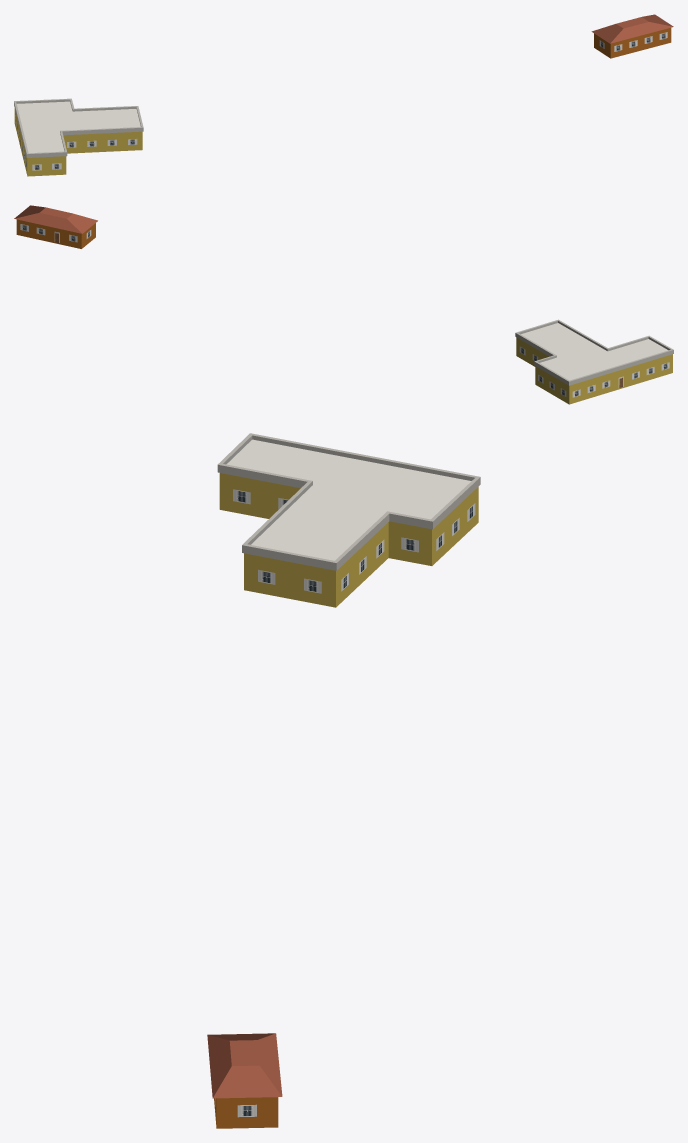
File: msb_noord_m13_m11.glb
The picture shows the model from 3 angles, top to bottom: view 1: azimuth 30°, elevation 25°; view 2: azimuth 150°, elevation 25°; view 3: azimuth 270°, elevation 25°; orthographic projection. The views are drawn at different scales.
Parts seen in each view (by area): view 1: msb_noord_m13_m11_lod0; view 2: msb_noord_m13_m11_lod0; view 3: msb_noord_m13_m11_lod0.
Boxes of the visible parts, left/top/right/bottom form: msb_noord_m13_m11_lod0: left=14, top=14, right=673, bottom=176; msb_noord_m13_m11_lod0: left=14, top=205, right=673, bottom=404; msb_noord_m13_m11_lod0: left=207, top=433, right=480, bottom=1128.
Size of what is drawn, in the model's own units: 146 by 8.17 by 27.
3 materials, 1 textured.
